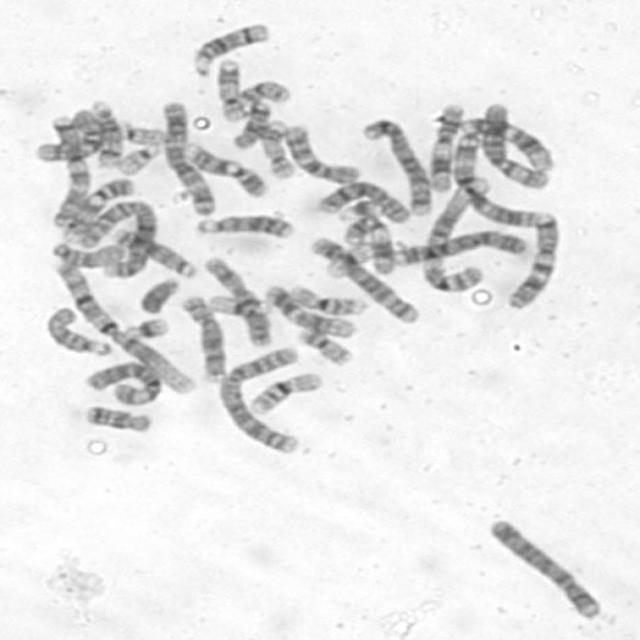A1: (45, 256, 198, 395), (416, 169, 496, 294)
A2: (214, 340, 305, 456), (71, 196, 159, 278)
A3: (447, 130, 542, 229), (158, 96, 221, 218)
B4: (482, 512, 606, 621), (388, 225, 532, 267)
B5: (305, 231, 423, 325), (356, 111, 434, 218)
C10: (277, 118, 364, 186), (30, 107, 104, 163)
C11: (424, 98, 469, 193), (335, 210, 397, 276)
C12: (258, 278, 362, 339), (459, 112, 557, 173)
C6: (474, 98, 553, 192), (79, 357, 164, 406)
C7: (41, 110, 93, 231), (503, 208, 564, 311)
C8: (310, 175, 415, 225), (176, 290, 228, 382)
C9: (56, 172, 137, 240), (180, 139, 271, 199)
D13: (108, 223, 200, 279), (189, 208, 297, 241)
D14: (186, 16, 272, 78), (85, 96, 126, 168)
D15: (40, 301, 116, 358), (45, 236, 126, 269)
E16: (244, 367, 326, 416), (281, 279, 370, 317)
E17: (255, 115, 297, 180), (212, 52, 250, 122)
E18: (80, 400, 155, 434), (227, 97, 274, 149)
F19: (322, 241, 378, 279), (203, 289, 276, 318)
F20: (292, 322, 357, 367), (235, 76, 293, 106)
G21: (117, 312, 171, 341), (334, 195, 381, 222)
G22: (111, 139, 164, 176), (115, 117, 168, 146)
X: (199, 251, 276, 348)
Y: (134, 272, 182, 314)
